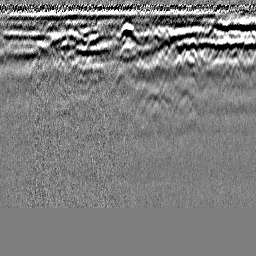cavity: (116, 22, 139, 42)
